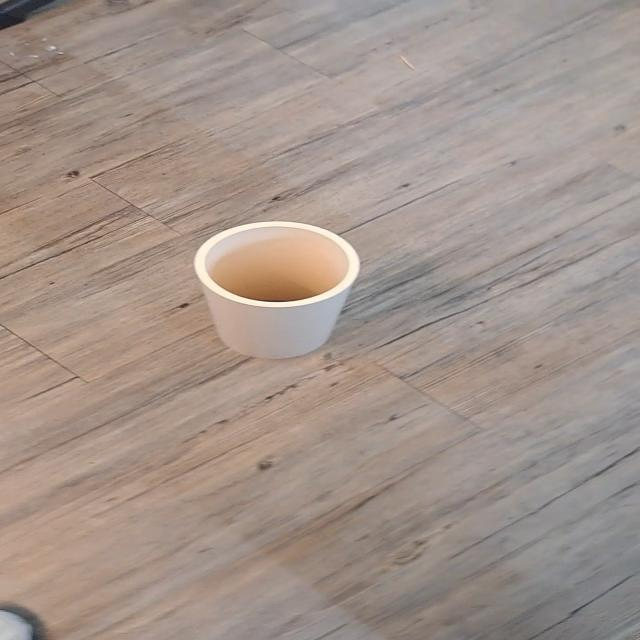CORAL: (160, 202, 400, 376)
